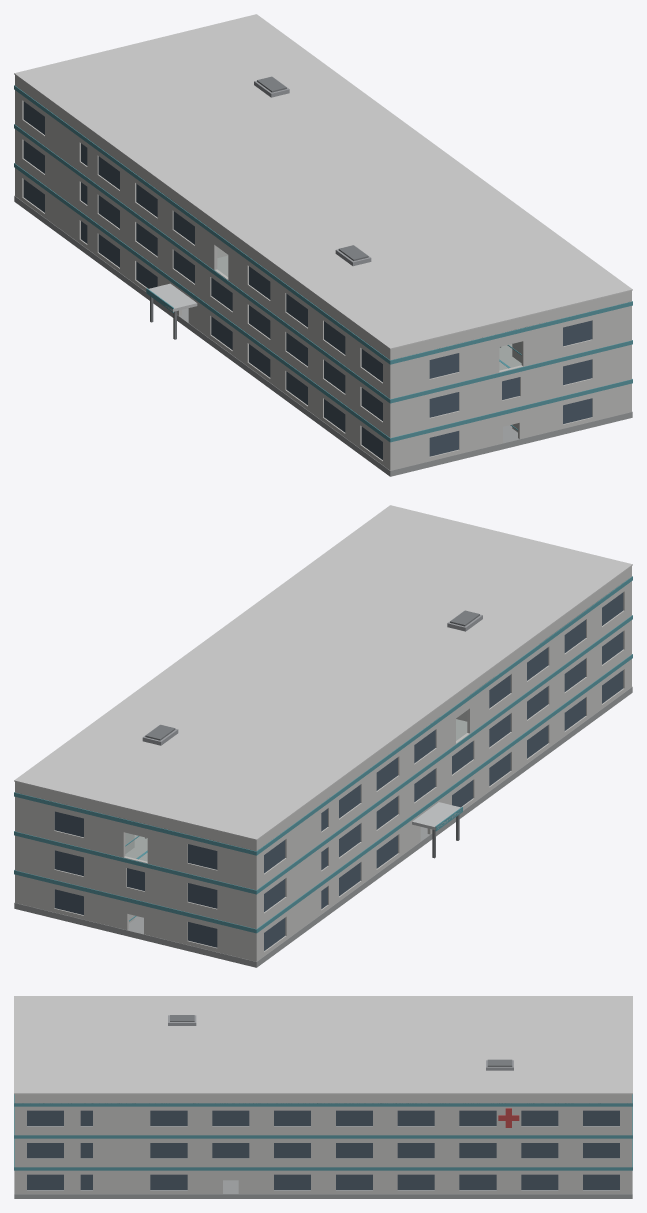
Rendered from hosp-east.mega-v1.lod0.glb.
3 renders of one model, top to bottom at view 1: azimuth 30°, elevation 25°; view 2: azimuth 150°, elevation 25°; view 3: azimuth 270°, elevation 25°, orthographic. The views are drawn at different scales.
Parts seen in each view (by area): view 1: hosp-east; view 2: hosp-east; view 3: hosp-east.
Boxes of the visible parts, x1,y1,x2,y2 form: hosp-east: (14, 14, 632, 476); hosp-east: (14, 505, 632, 967); hosp-east: (14, 996, 632, 1198).
Size of the model in its own units: 28.68 by 13.75 by 70.12.
